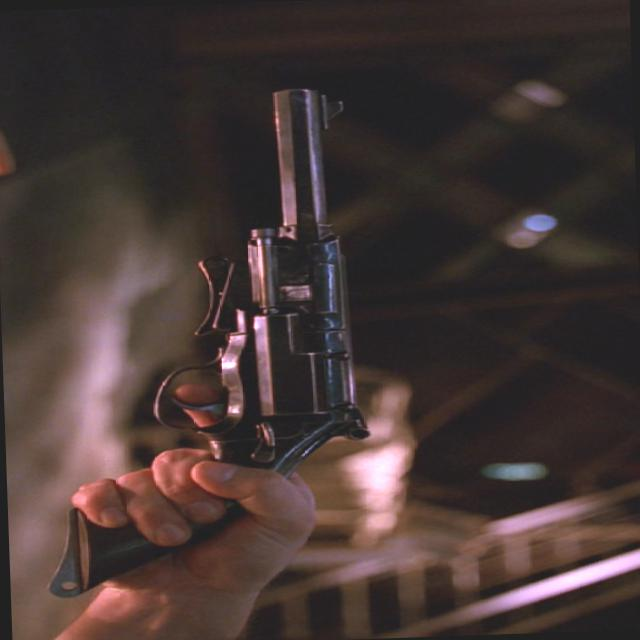handgun: (39, 58, 421, 592)
